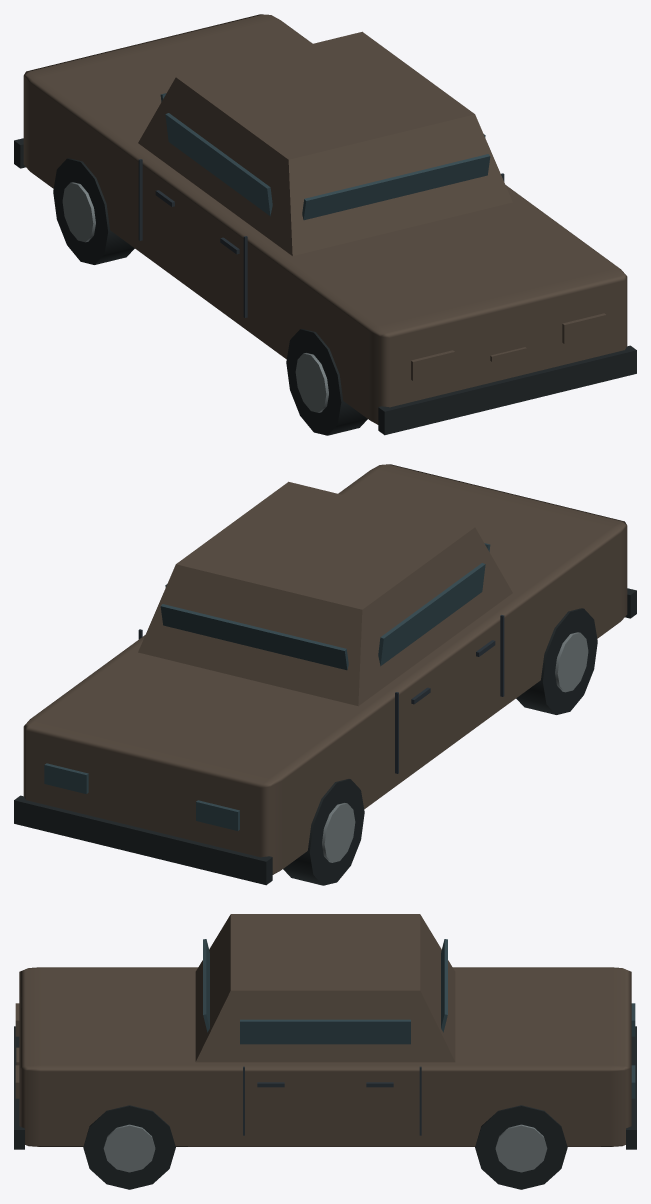
File: sedan-2.glb
3 renders of one model, top to bottom at view 1: azimuth 30°, elevation 25°; view 2: azimuth 150°, elevation 25°; view 3: azimuth 270°, elevation 25°, orthographic. The views are drawn at different scales.
Visible parts, largest first — view 1: sedan/1/KR-230-2; view 2: sedan/1/KR-230-2; view 3: sedan/1/KR-230-2.
Boxes of the visible parts, bbox=[...] form: sedan/1/KR-230-2: bbox=[14, 14, 636, 435]; sedan/1/KR-230-2: bbox=[14, 464, 636, 885]; sedan/1/KR-230-2: bbox=[14, 914, 636, 1189].
Bounding box in the file's own units: 1.87 × 1.5 × 4.58.
